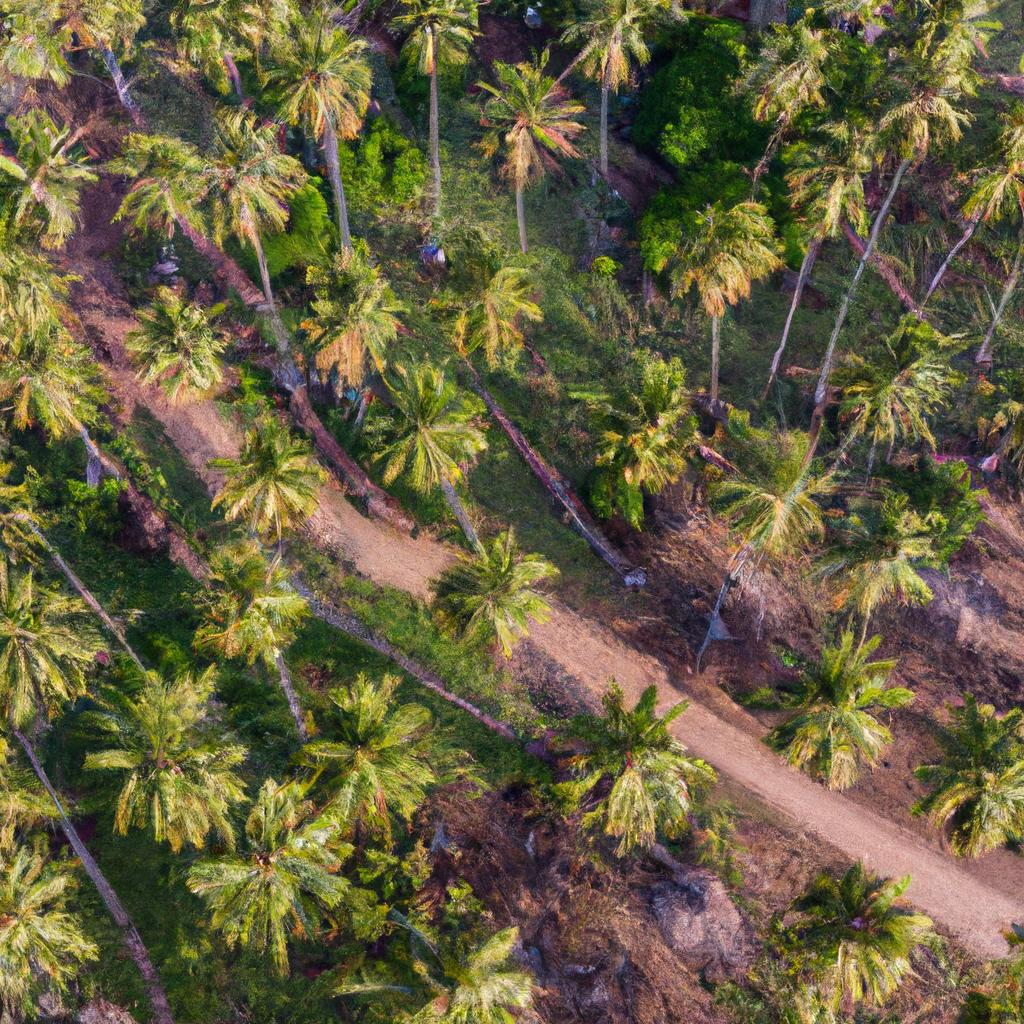coconut_tree: (565, 670, 734, 858), (769, 845, 956, 1013), (80, 656, 246, 840), (197, 793, 375, 959), (308, 659, 464, 821), (767, 631, 919, 796), (165, 518, 319, 674), (356, 348, 496, 508), (626, 199, 799, 318), (183, 99, 307, 251), (423, 539, 573, 659), (199, 410, 337, 539), (462, 50, 592, 186), (293, 239, 404, 395), (122, 276, 232, 408)
